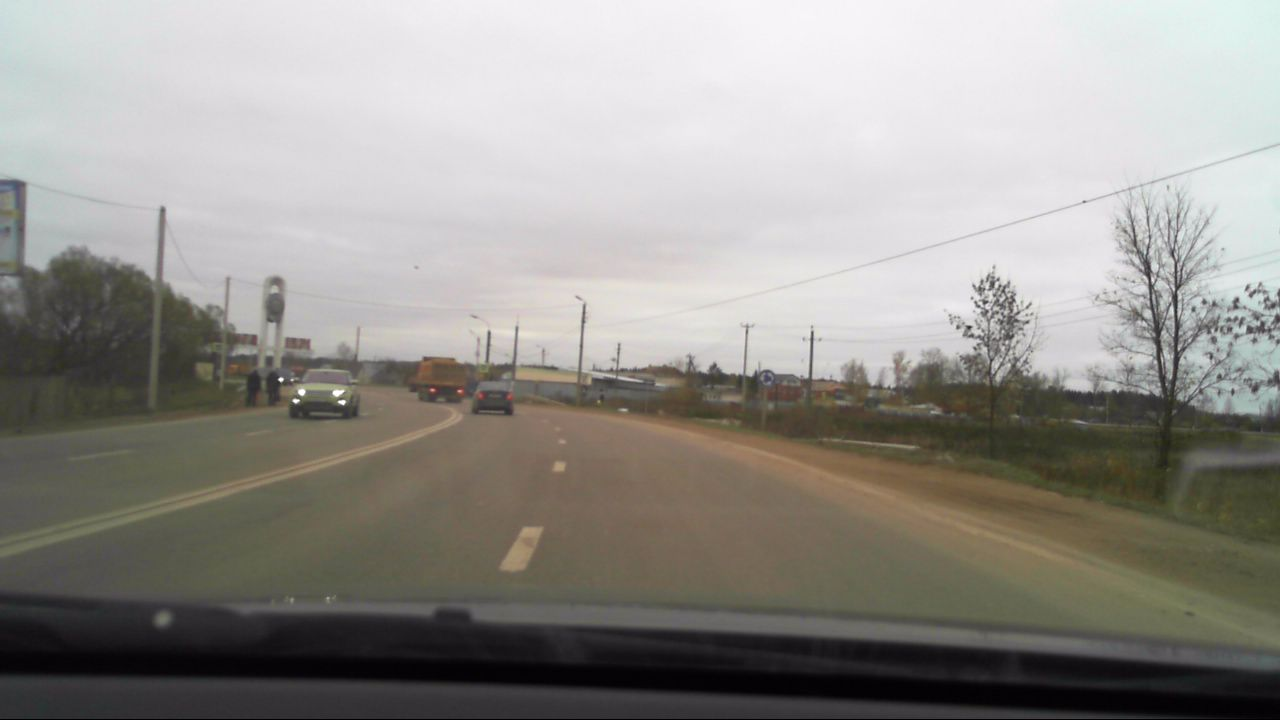Round-About: (757, 367, 778, 389)
